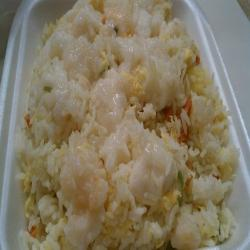rice: (41, 8, 214, 241)
